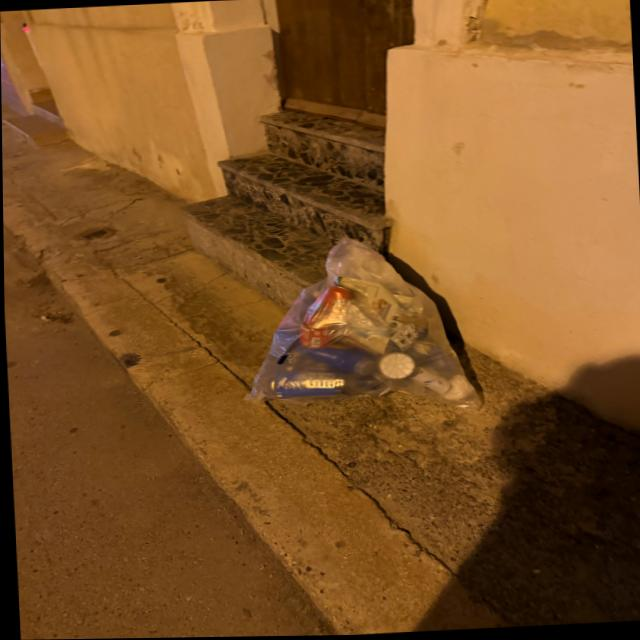Recyclable Material -Grey Bags-: (244, 236, 478, 410)
